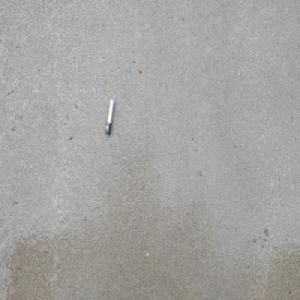Battery: (105, 98, 115, 135)
